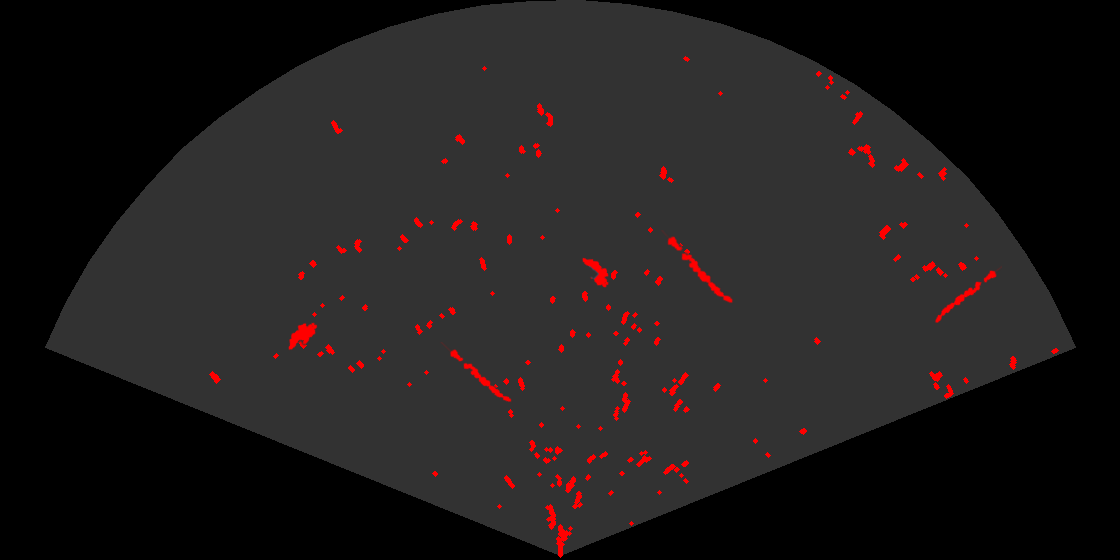AUV: (287, 321, 319, 352), (580, 256, 610, 289)
chain: (660, 230, 734, 305), (439, 342, 513, 404), (933, 264, 1002, 325)
